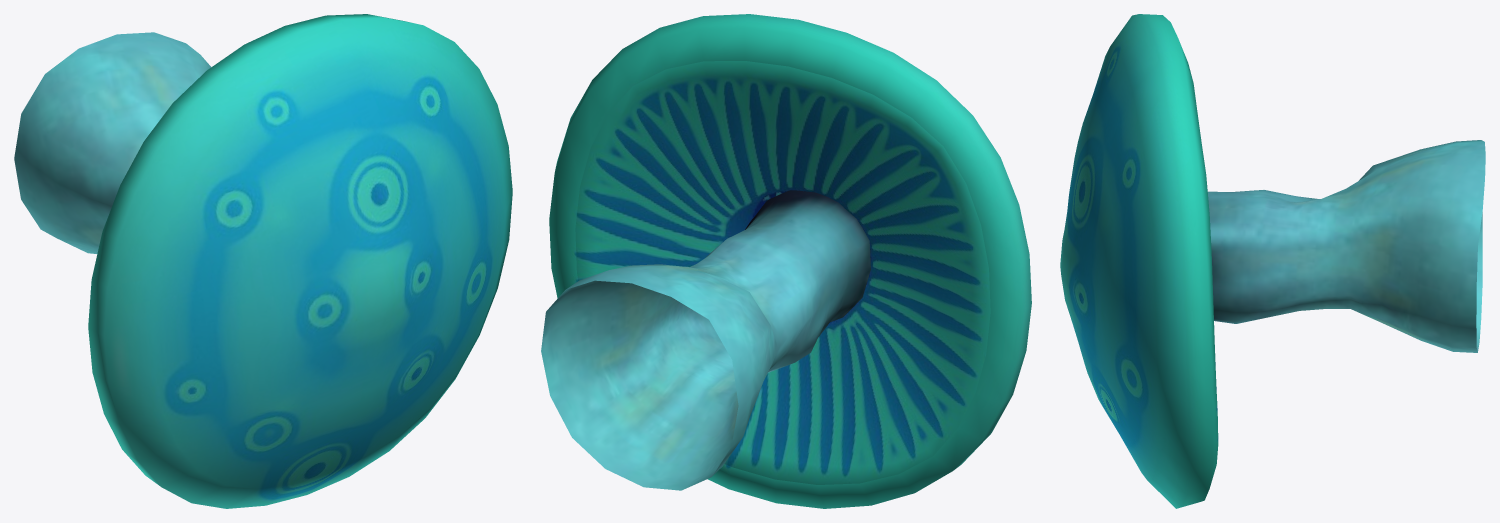
Rendered from mushroom3.obj.
3 renders of one model, left to right at view 1: azimuth 30°, elevation 25°; view 2: azimuth 150°, elevation 25°; view 3: azimuth 270°, elevation 25°, orthographic. The views are drawn at different scales.
Parts seen in each view (by area): view 1: defaultMaterial.004; view 2: defaultMaterial.004; view 3: defaultMaterial.004.
Part boxes in pixels (x1,y1,x2,y2): defaultMaterial.004: [14, 14, 512, 508]; defaultMaterial.004: [541, 14, 1031, 508]; defaultMaterial.004: [1060, 14, 1485, 508].
Size of the model in its own units: 0.1732 by 0.175 by 0.1521.
2 materials, 2 textured.
